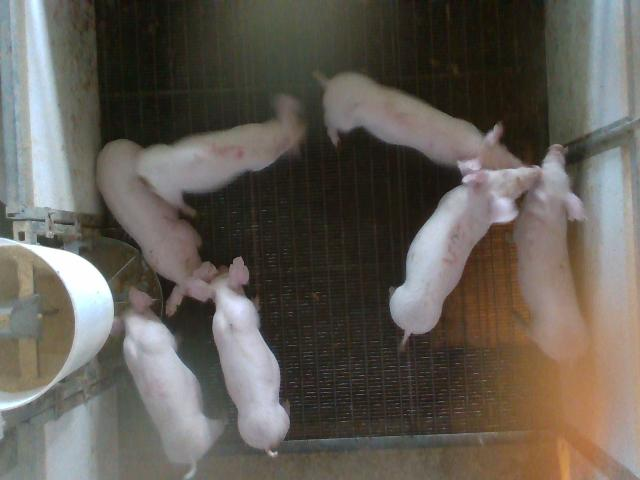pig-3: (390, 168, 539, 346)
pig-4: (111, 288, 224, 478)
pig-5: (136, 95, 305, 216)
